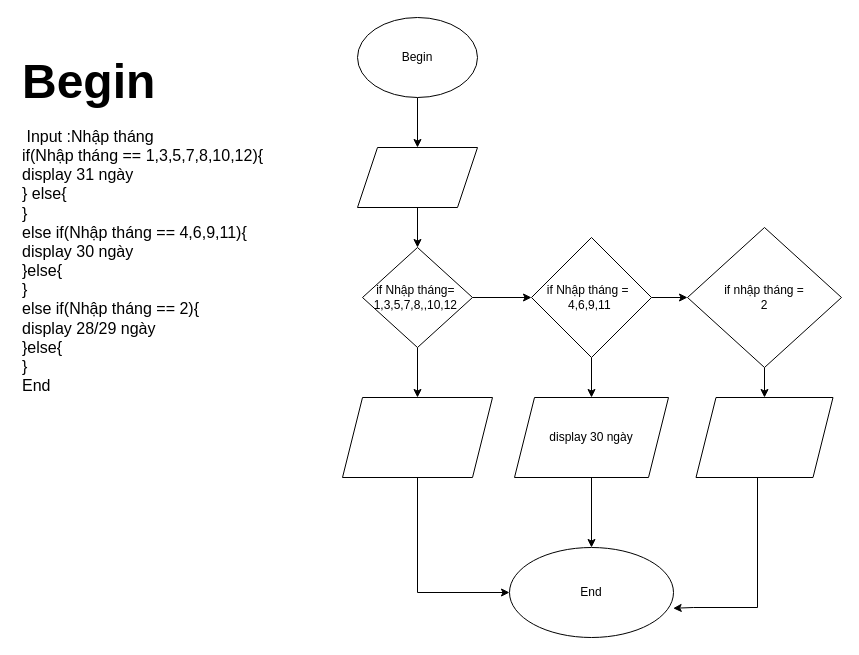
The diagram is 859 pixels wide and 655 high, and some of its shapes have lost their labels. Each missing label, with the centre of its shape:
dispaly 31 ngày: point (417, 437)
display 28/29 ngày: point (764, 437)
NHập tháng: point (417, 177)
